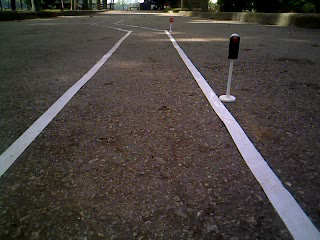Red: (225, 32, 242, 62)
